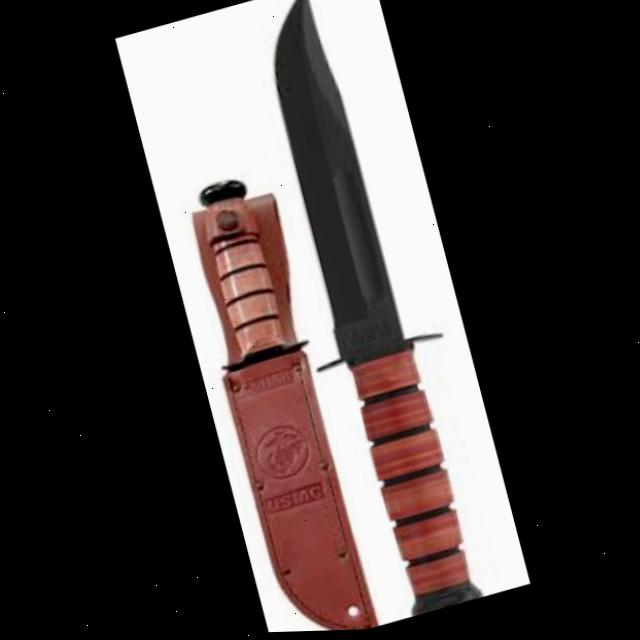Knife: (243, 0, 508, 624), (172, 164, 384, 636)
